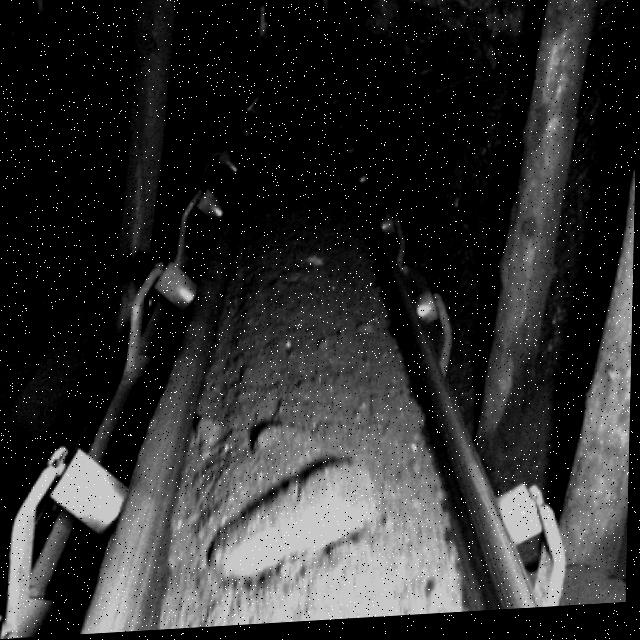large_sized_coal: (217, 463, 376, 586), (263, 420, 330, 463)
